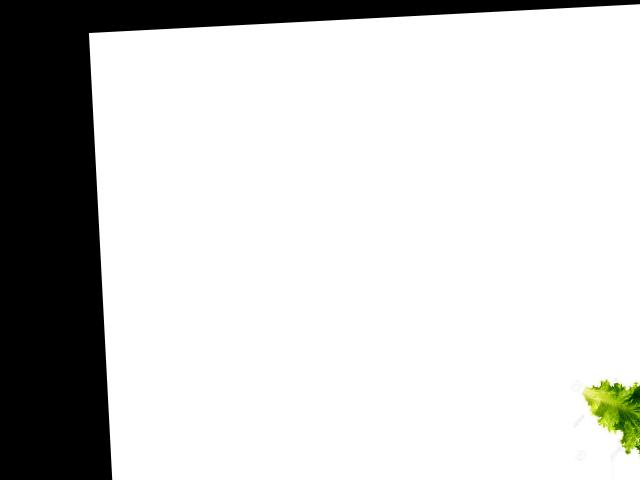lettuce: (581, 380, 640, 458)
